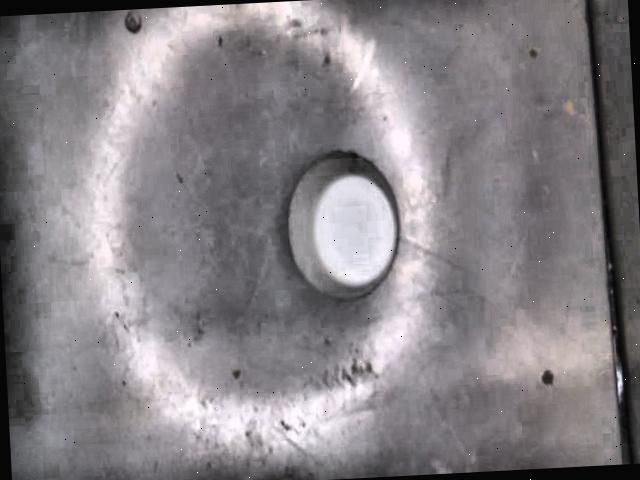Plastic: (286, 152, 409, 301)
